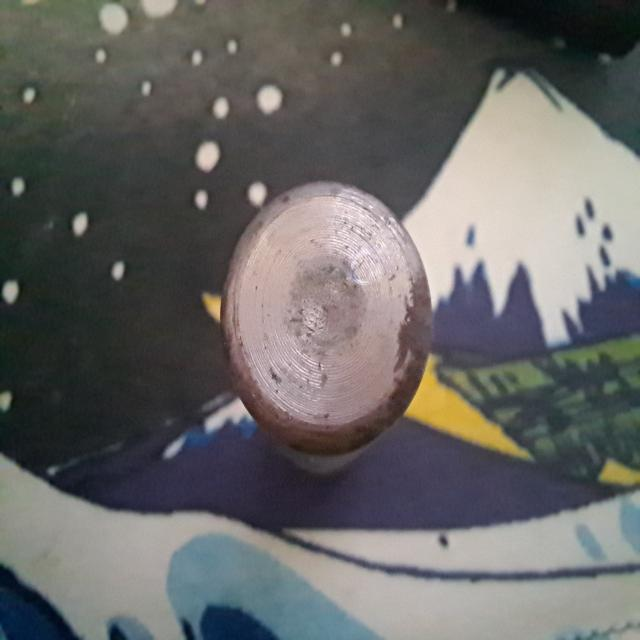defect: (348, 244, 387, 288)
planson: (221, 180, 434, 475)
